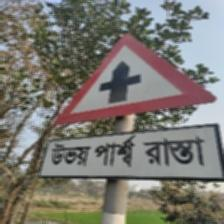Crossroad: (37, 34, 219, 181)
